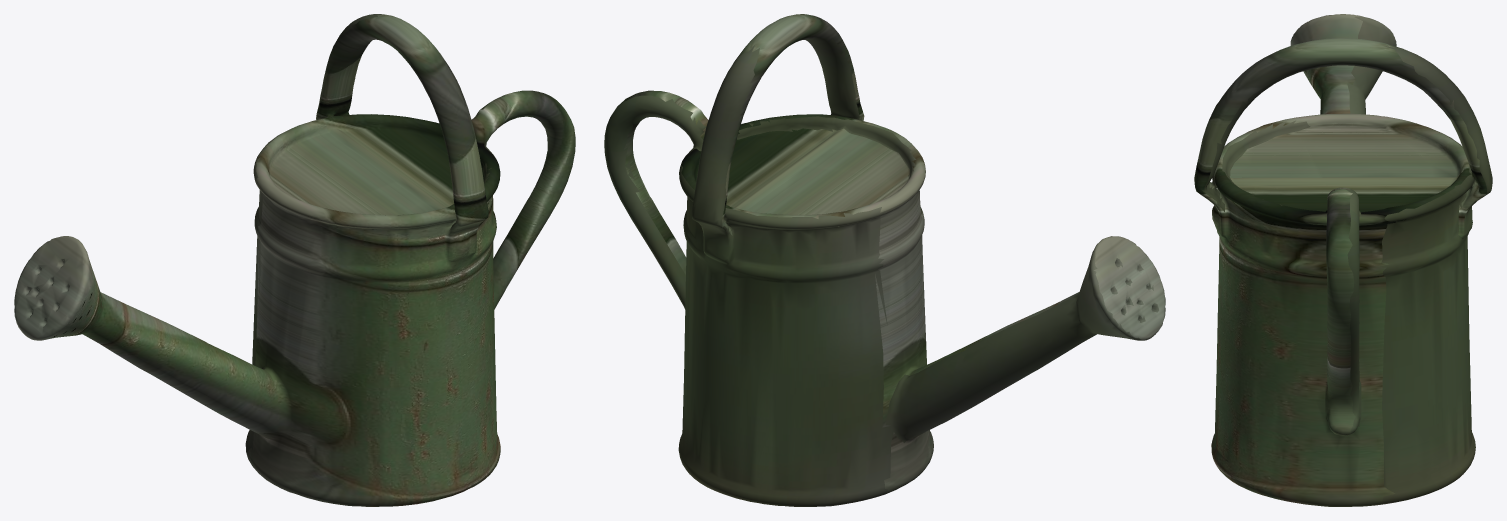
The model's file is wateringcan.glb.
3 views of the same model, side by side, from view 1: azimuth 30°, elevation 25°; view 2: azimuth 150°, elevation 25°; view 3: azimuth 270°, elevation 25° (orthographic).
Visible parts, largest first — view 1: wateringcan; view 2: wateringcan; view 3: wateringcan.
Part boxes in pixels (box(x1,y1,x2,y2)): wateringcan: box(14, 14, 575, 506); wateringcan: box(604, 14, 1165, 506); wateringcan: box(1194, 14, 1492, 506).
Bounding box in the file's own units: 5.5 × 4.07 × 2.56.
Materials: 1 (1 with a texture image).
